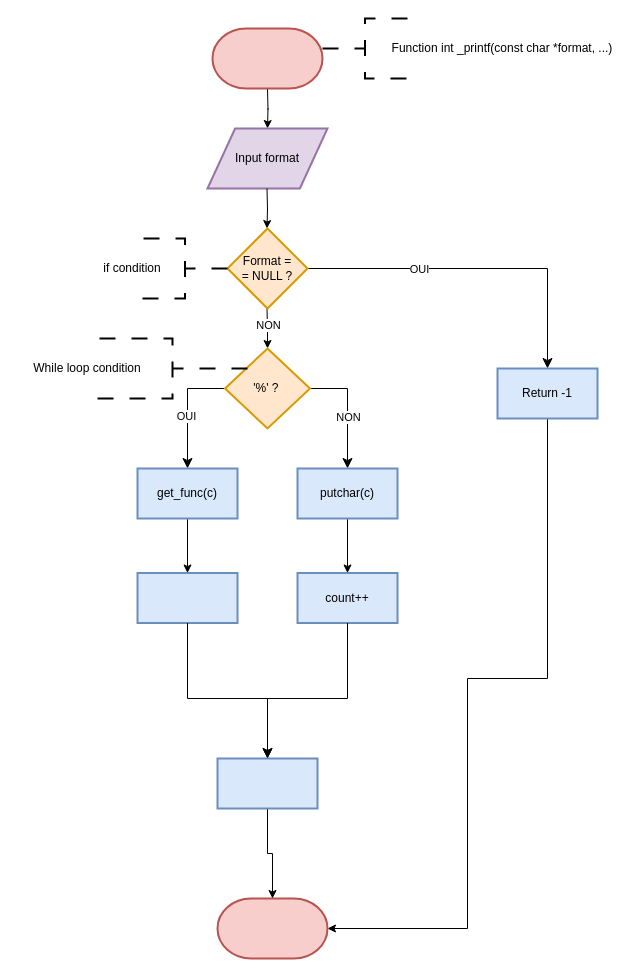
Some shapes in this 644 by 976 pixel diagram are drawn without their labels. Here are the shapes that lost their labels. From the top down, the centre of each, then its label:
At point (267, 58): "Start".
At point (187, 598): "count += temp".
At point (267, 783): "Return count".
At point (272, 928): "End".
